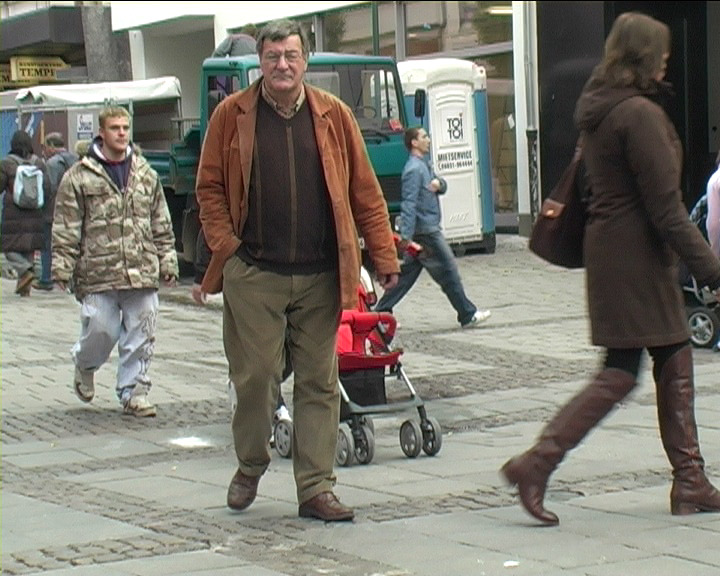undeflect: (224, 33, 358, 144), (67, 113, 168, 196)
